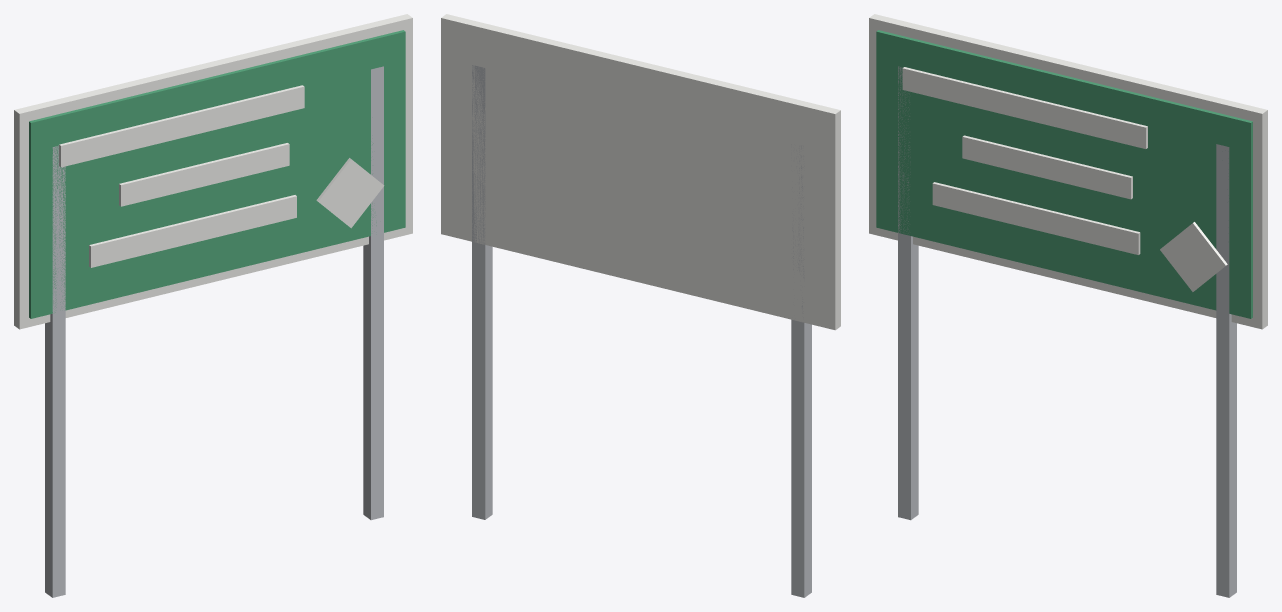
The model's file is highway_sign.glb.
3 renders of one model, left to right at view 1: azimuth 30°, elevation 25°; view 2: azimuth 150°, elevation 25°; view 3: azimuth 330°, elevation 25°, orthographic.
Parts seen in each view (by area): view 1: highway_sign; view 2: highway_sign; view 3: highway_sign.
Part boxes in pixels (x1,y1,x2,y2): highway_sign: (14, 14, 412, 597); highway_sign: (441, 14, 840, 597); highway_sign: (869, 14, 1267, 597).
Size of the model in its own units: 4.2 by 5 by 0.175.
